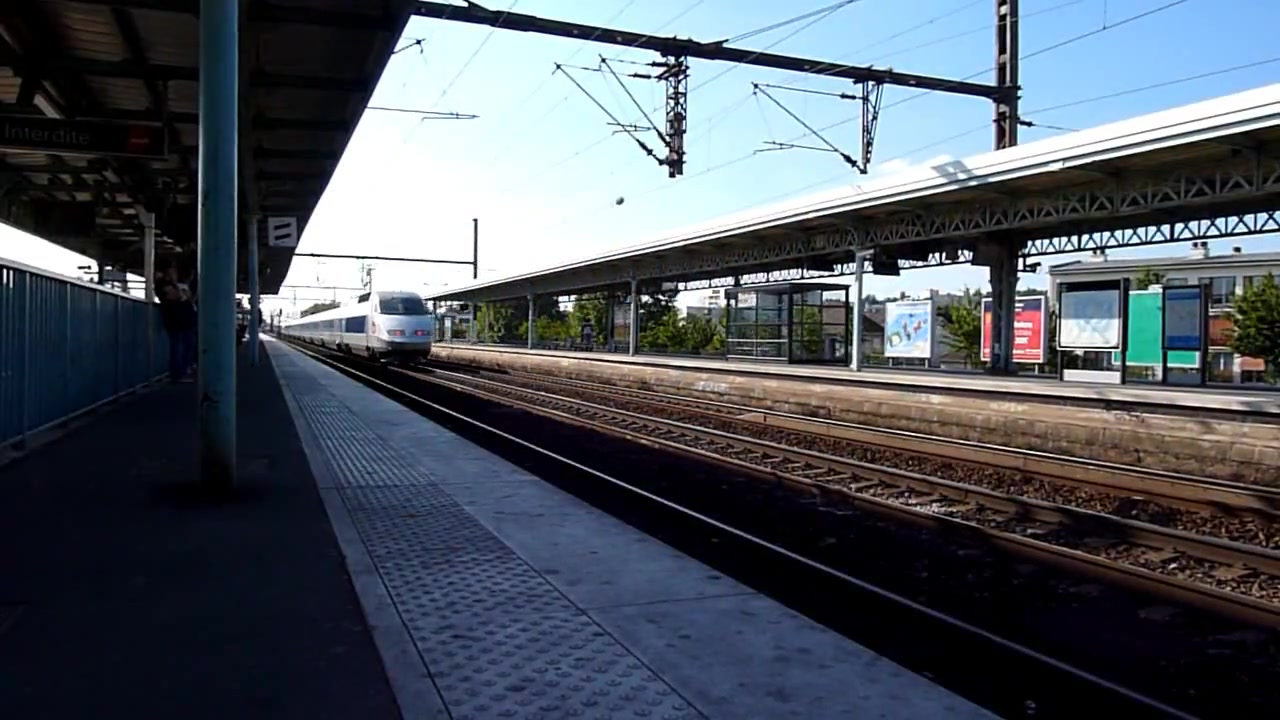train: (277, 287, 439, 373)
